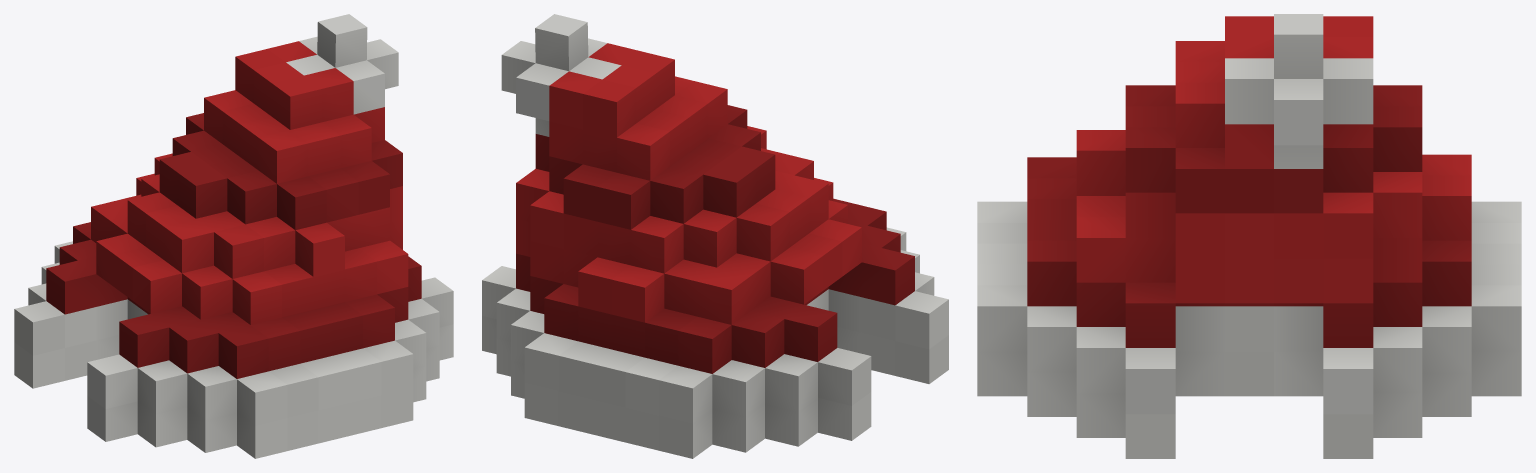
File: hat_santa.glb
3 renders of one model, left to right at view 1: azimuth 30°, elevation 25°; view 2: azimuth 150°, elevation 25°; view 3: azimuth 270°, elevation 25°, orthographic. The views are drawn at different scales.
Visible parts, largest first — view 1: Hat; view 2: Hat; view 3: Hat.
Boxes of the visible parts, x1=… form: Hat: x1=14, y1=14, x2=453, y2=458; Hat: x1=482, y1=14, x2=948, y2=458; Hat: x1=977, y1=14, x2=1521, y2=458.
Size of the model in its own units: 1.21 by 0.9902 by 1.21.
